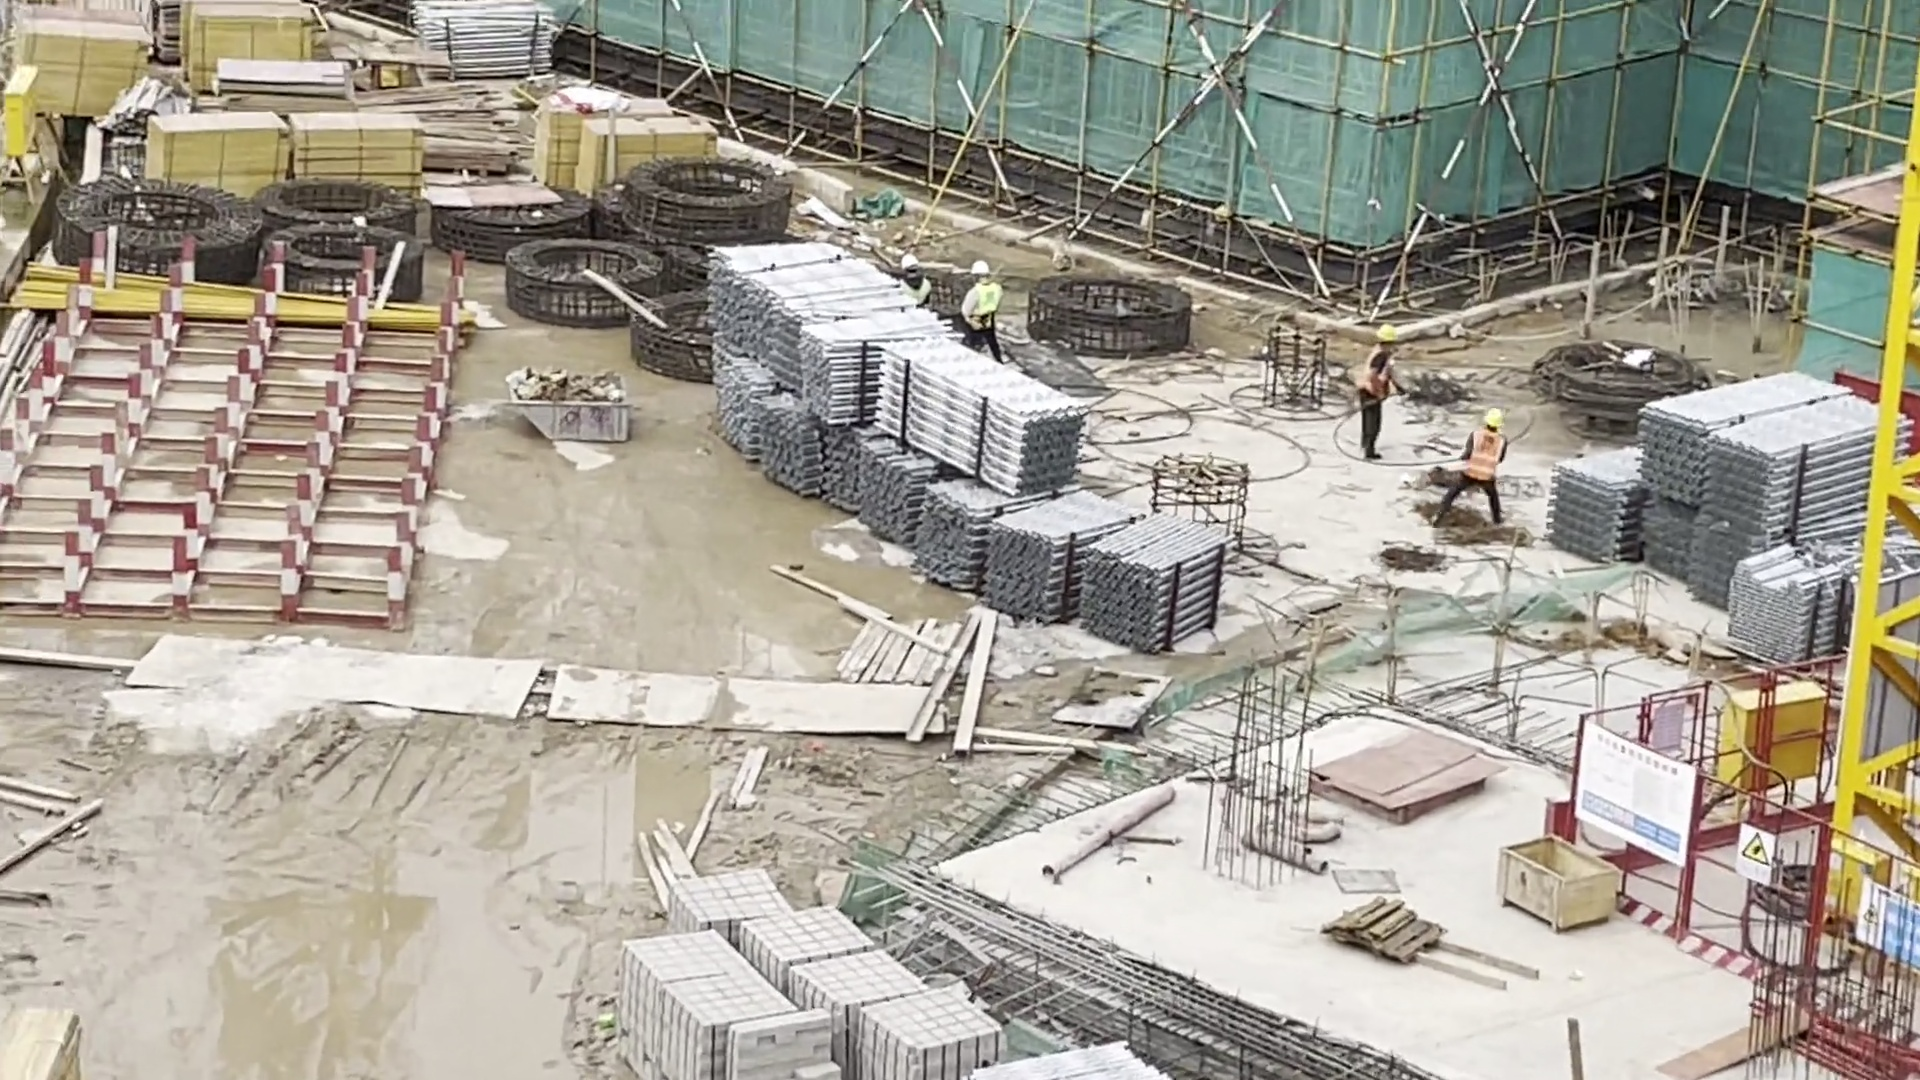brick: (610, 861, 999, 1080)
ebox: (1, 64, 33, 205)
helmet: (1482, 409, 1504, 428), (972, 258, 990, 277), (1377, 324, 1394, 344), (901, 256, 916, 268)
hopper: (1492, 835, 1620, 939), (506, 369, 629, 445)
person: (1440, 410, 1516, 529), (960, 258, 1009, 359), (1363, 321, 1395, 461), (896, 255, 937, 307)
scaffold: (704, 242, 1237, 652), (1541, 372, 1920, 656), (415, 5, 552, 79)
slogan: (1567, 714, 1692, 877), (1854, 875, 1920, 964), (1733, 824, 1779, 883)
vest: (1466, 428, 1502, 482), (1362, 347, 1392, 402), (971, 282, 999, 322), (899, 277, 928, 304)
